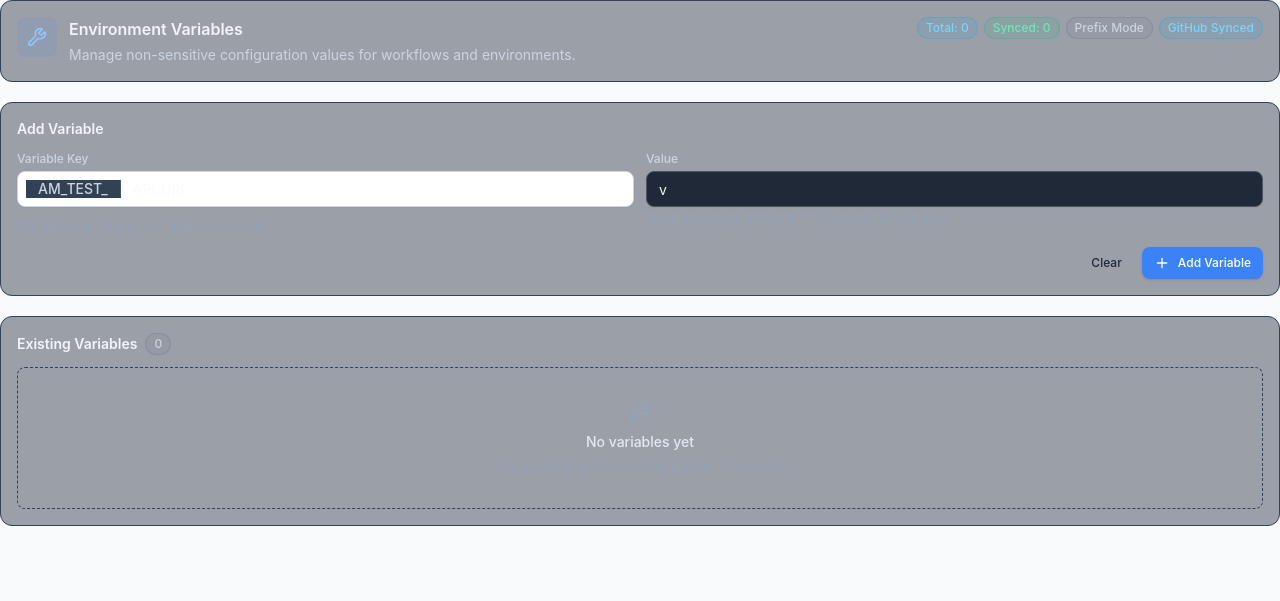
Scenario: EnvVars redesigned UI › surfaces backend error when saving fails
Click the button with test id "envvars-add-submit": coordinates (1202, 263) [1142,247,1263,279]
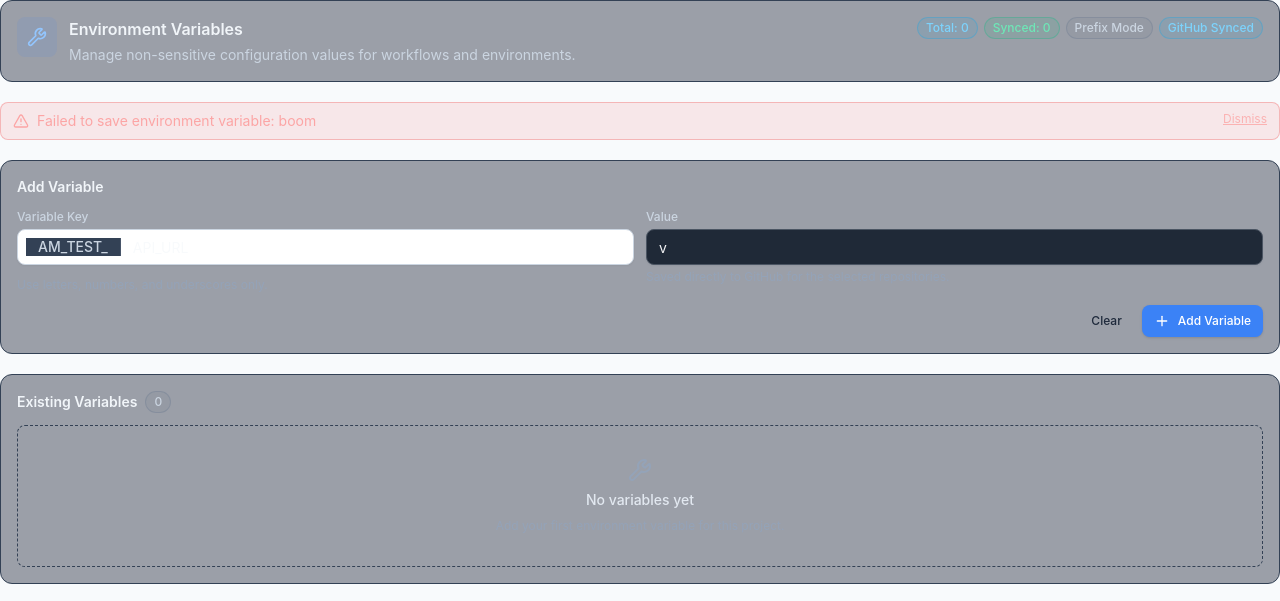
expect the message shows "Failed to save": met, box [37,112,316,129]
